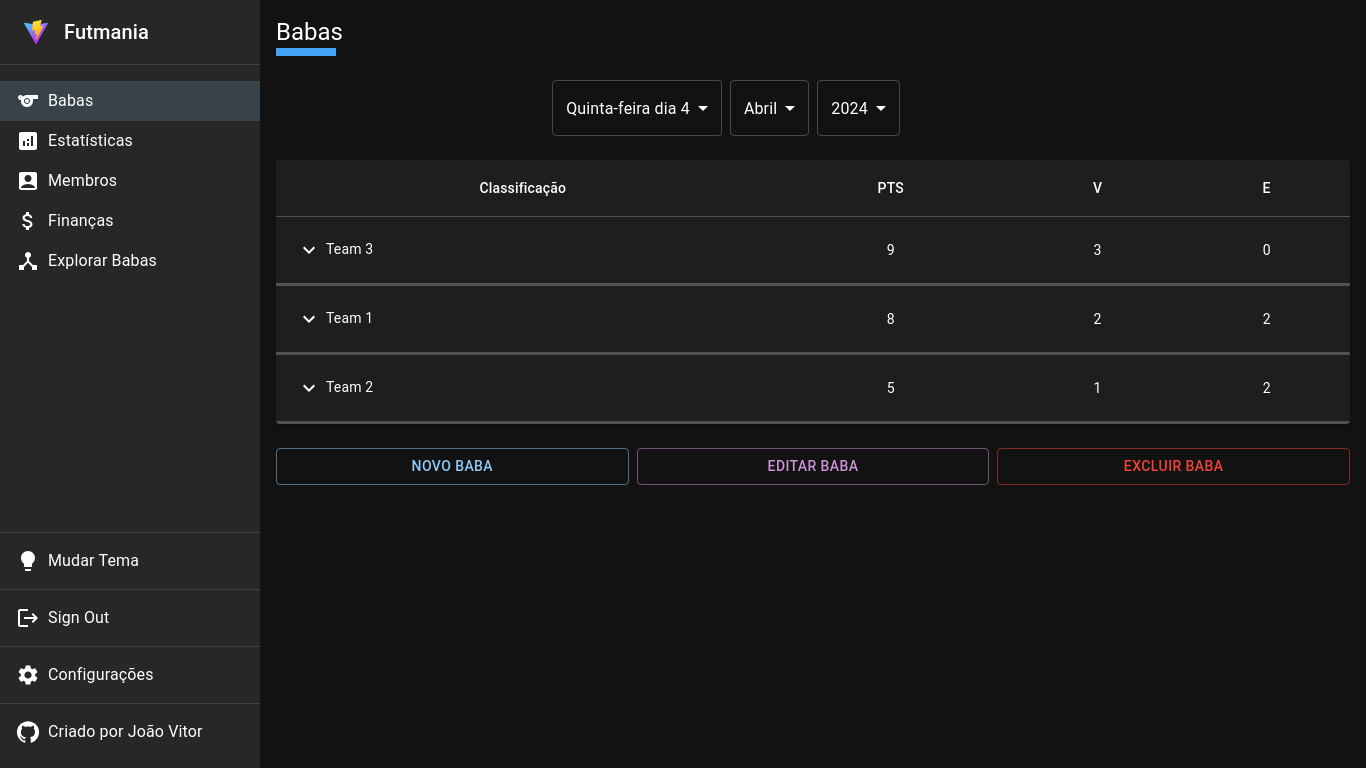
Scenario: <Babas /> › should render the last baba
The width and height of the screenshot is (1366, 768).
Check: the button "Novo Baba" is shown, box 276,448 -> 629,484
Check: the button "Editar Baba" is shown, box 637,448 -> 989,484
Press the mouse on the dropdown "2024" at (850, 108), box 831,98 -> 868,118
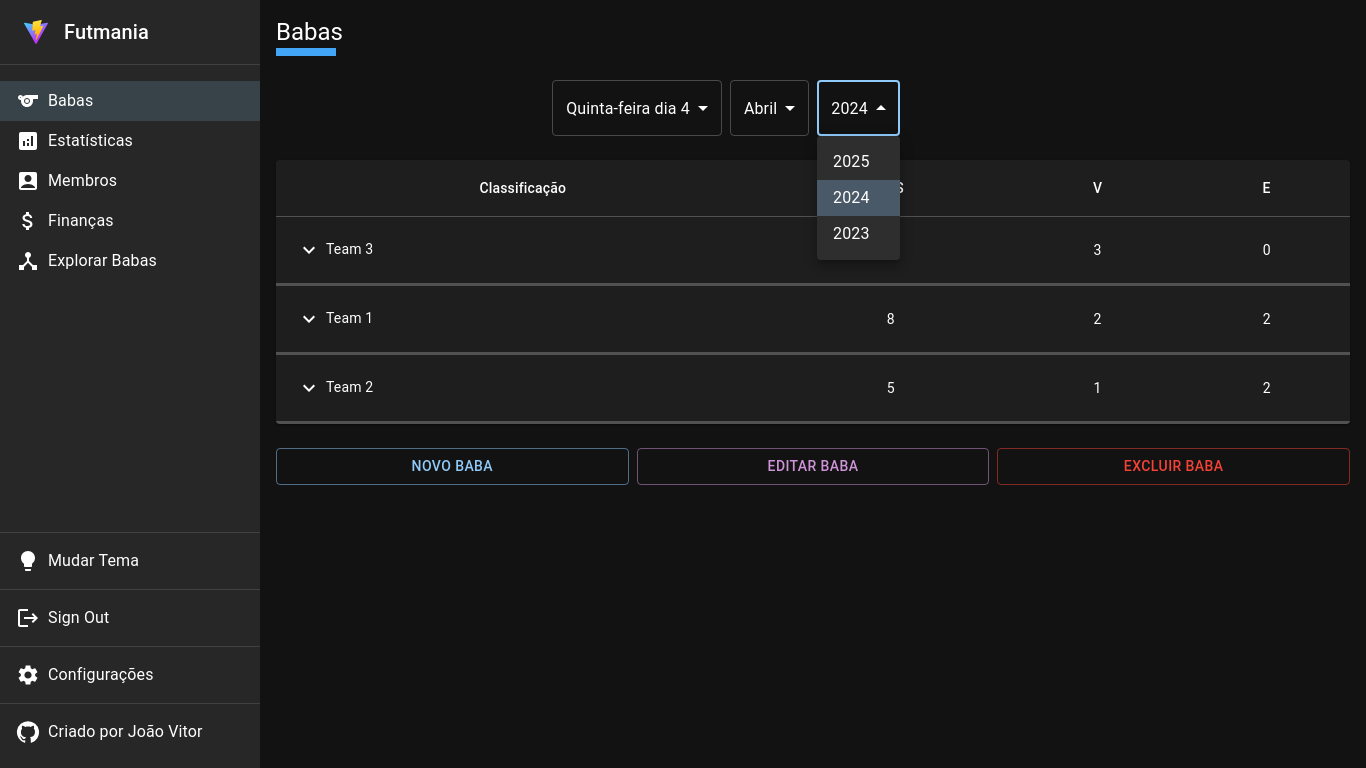
Click the option "2025" at (851, 162), box 833,152 -> 870,171
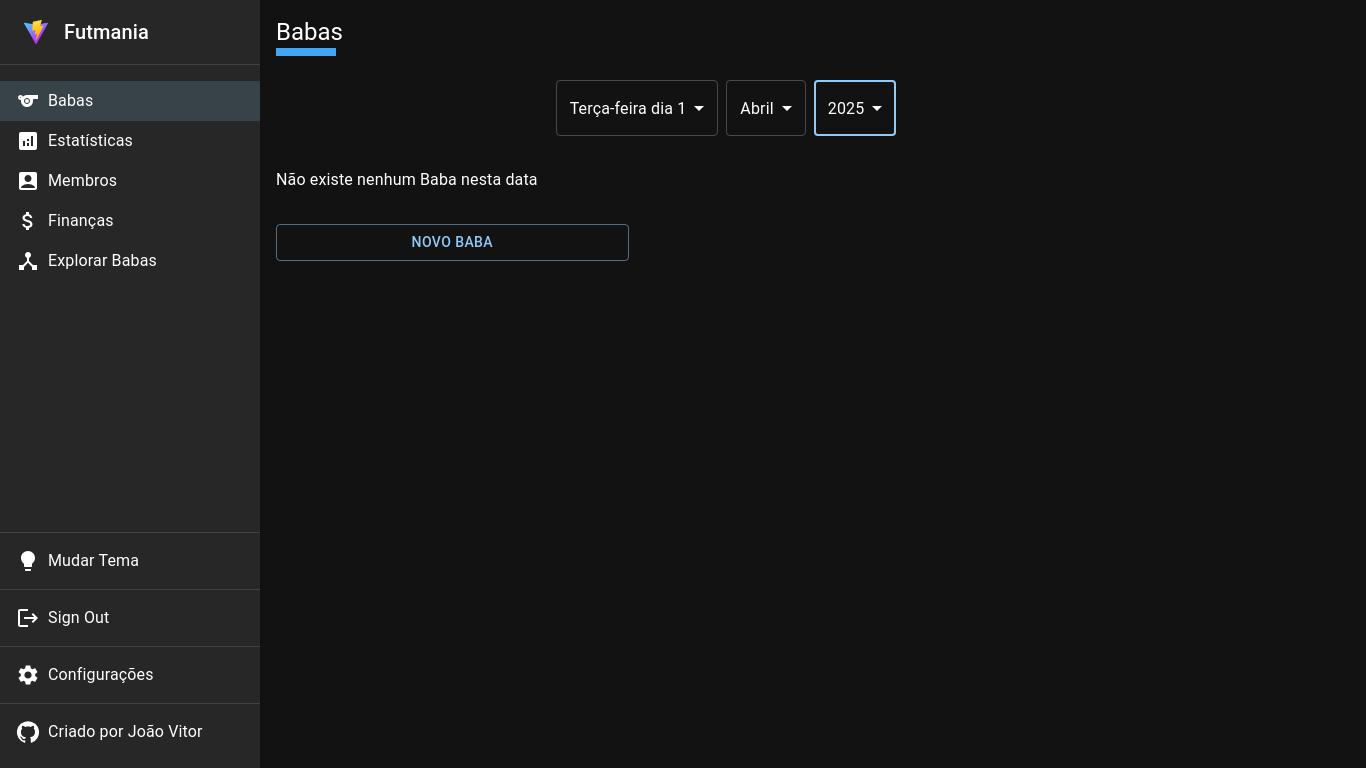
Check: the text "Não existe nenhum Baba nesta data" is shown, box 276,170 -> 538,189
Check: the button "Editar Baba" is gone
Check: the button "Excluir Baba" is gone
